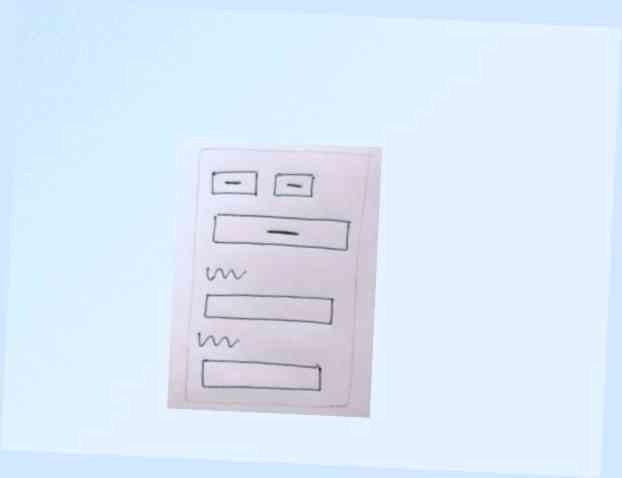button: (209, 209, 355, 260), (208, 166, 265, 204), (269, 170, 319, 205)
text: (196, 330, 243, 356), (203, 262, 251, 287)
text_input: (203, 290, 338, 330), (198, 358, 323, 398)
